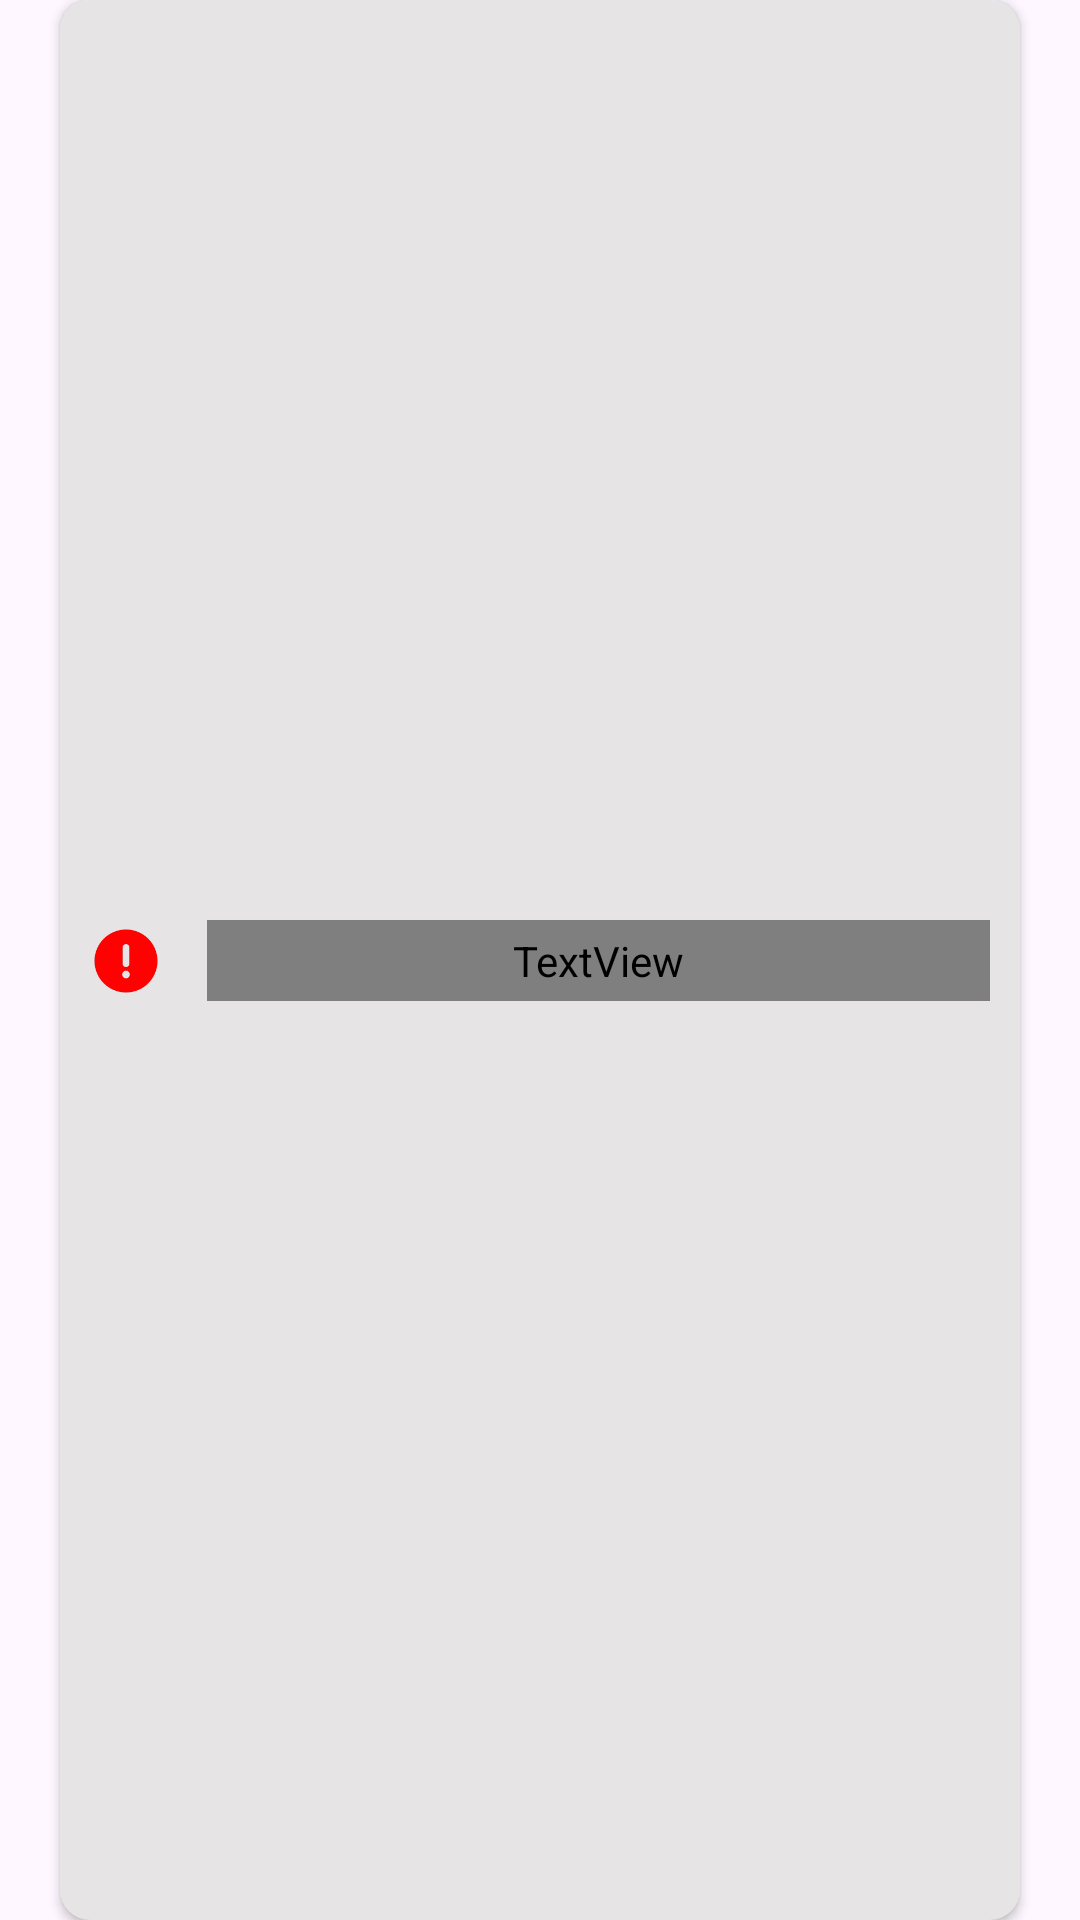

Icon bounding boxes for this 1080×1920 phone screenshot, format [x1, y1, x2, y2]:
error: [94, 929, 158, 993]
